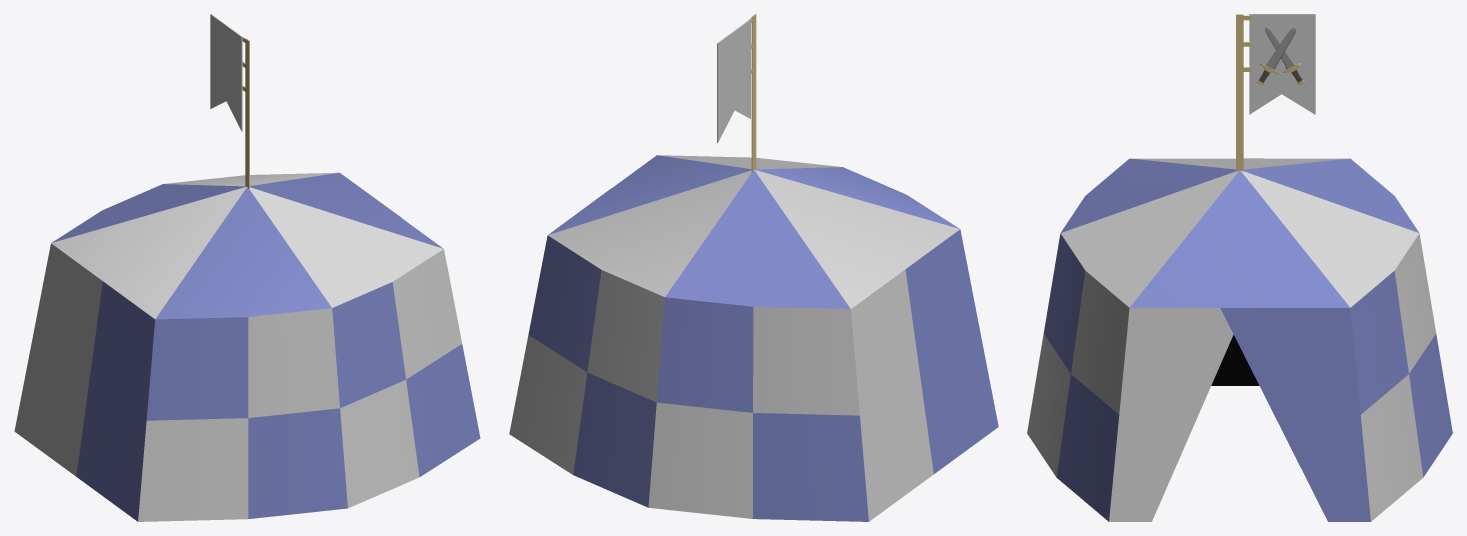
The model's file is attack_tent_02.fbx.
The picture shows the model from 3 angles, left to right: view 1: azimuth 30°, elevation 25°; view 2: azimuth 150°, elevation 25°; view 3: azimuth 270°, elevation 25°; orthographic projection. The views are drawn at different scales.
Parts seen in each view (by area): view 1: pCube170; view 2: pCube170; view 3: pCube170.
Boxes of the visible parts, bbox=[...] form: pCube170: bbox=[14, 14, 480, 521]; pCube170: bbox=[509, 14, 998, 521]; pCube170: bbox=[1027, 14, 1452, 521].
Size of the model in its own units: 1.9 by 2.09 by 1.93.
